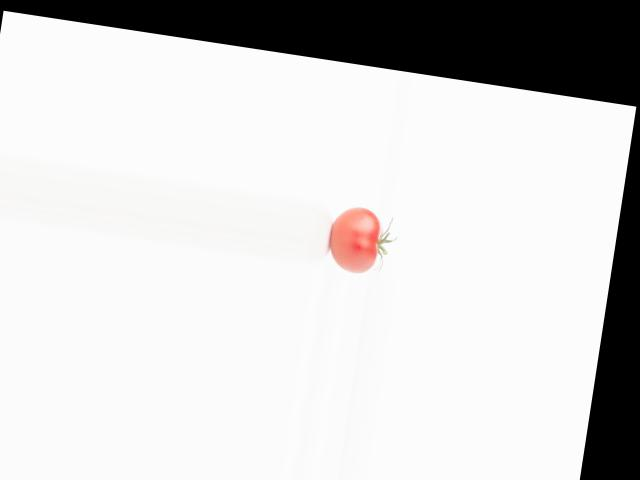tomato: (326, 203, 384, 275)
